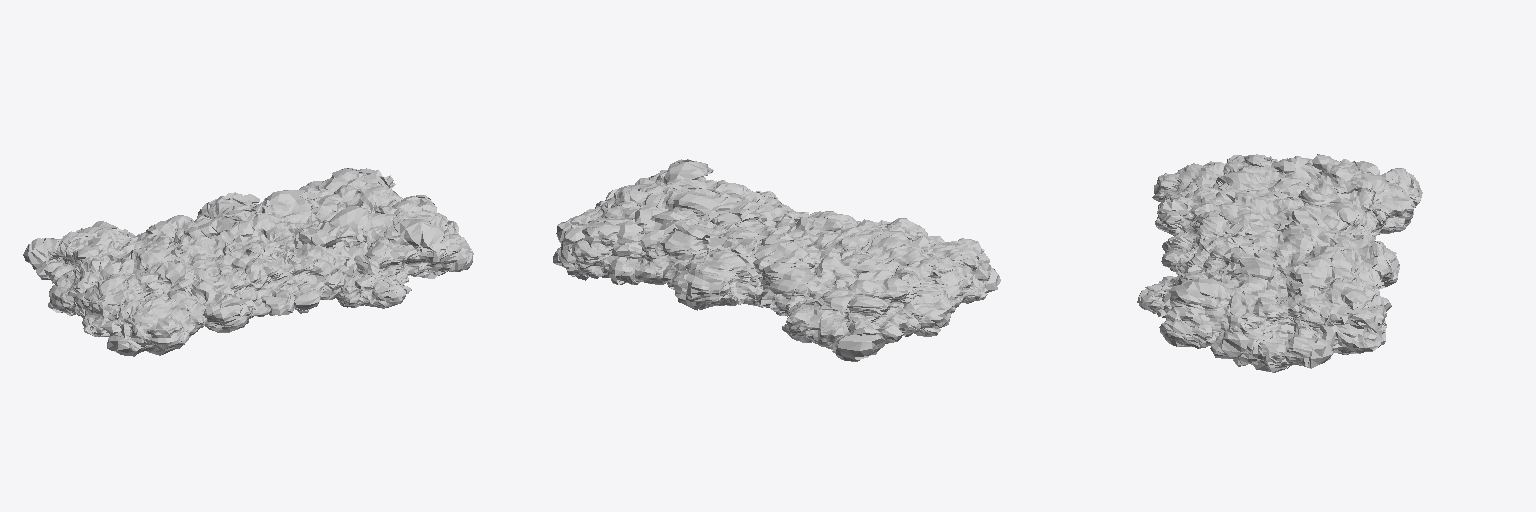
Rendered from Cloud2.obj.
The picture shows the model from 3 angles: view 1: azimuth 30°, elevation 25°; view 2: azimuth 150°, elevation 25°; view 3: azimuth 270°, elevation 25°; orthographic projection.
Parts seen in each view (by area): view 1: Cube; view 2: Cube; view 3: Cube.
Part boxes in pixels (left/top/right/bottom): Cube: left=23, top=168, right=473, bottom=356; Cube: left=553, top=159, right=1000, bottom=361; Cube: left=1137, top=154, right=1422, bottom=372.
Bounding box in the file's own units: 11.35 × 1.94 × 7.19.